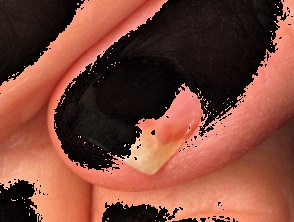Nail_psoriasis: (40, 11, 241, 211)
